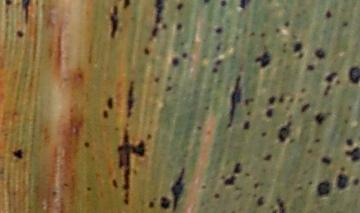tarspot: (115, 128, 146, 205), (226, 74, 242, 128), (170, 166, 186, 212), (125, 80, 136, 119), (253, 51, 273, 68), (277, 122, 293, 143), (109, 4, 118, 39), (153, 1, 165, 24), (20, 1, 31, 26), (347, 65, 360, 85), (269, 197, 285, 213), (316, 180, 331, 196), (344, 147, 360, 162), (336, 174, 349, 189), (324, 71, 339, 83), (159, 195, 170, 210), (12, 148, 24, 160), (322, 84, 333, 97), (314, 113, 325, 125), (291, 41, 302, 53), (314, 48, 325, 59), (224, 175, 235, 186), (321, 156, 331, 167), (15, 29, 25, 40), (105, 97, 114, 109), (238, 1, 250, 10), (243, 97, 255, 106), (233, 161, 241, 174), (344, 137, 354, 147), (300, 103, 310, 113), (150, 26, 159, 37), (265, 108, 274, 119), (110, 178, 118, 190), (213, 41, 221, 53), (325, 8, 332, 21), (305, 63, 315, 72), (142, 45, 150, 56), (268, 95, 276, 106), (256, 195, 264, 206), (252, 180, 260, 191), (121, 1, 130, 10), (174, 23, 183, 32), (263, 153, 272, 162), (147, 200, 156, 209), (243, 170, 252, 179), (242, 121, 250, 131), (277, 93, 284, 104), (352, 178, 360, 187), (171, 58, 180, 66), (295, 184, 304, 192), (102, 110, 109, 120), (215, 27, 223, 35), (160, 22, 168, 30), (145, 133, 153, 141), (164, 85, 172, 93), (200, 182, 208, 190), (338, 165, 346, 173), (82, 141, 91, 148), (214, 59, 223, 66), (346, 103, 353, 112), (175, 3, 183, 10), (181, 51, 188, 59), (260, 130, 267, 138), (213, 191, 220, 199), (84, 185, 91, 193), (283, 20, 290, 28), (258, 31, 266, 38), (299, 86, 307, 93), (305, 147, 313, 154), (287, 96, 295, 103), (280, 47, 288, 54), (4, 1, 13, 7), (201, 1, 211, 6), (220, 1, 227, 8), (211, 67, 218, 74), (245, 110, 252, 117), (297, 52, 304, 59), (274, 26, 281, 33), (248, 30, 255, 37), (195, 125, 202, 132), (203, 105, 210, 112), (306, 179, 313, 186), (51, 189, 58, 196), (165, 75, 172, 82), (341, 21, 349, 27), (152, 76, 160, 82), (343, 117, 349, 125), (280, 42, 289, 47), (335, 78, 341, 85), (61, 182, 69, 187), (314, 137, 320, 143), (233, 34, 239, 40), (229, 209, 238, 213), (265, 1, 272, 3)
